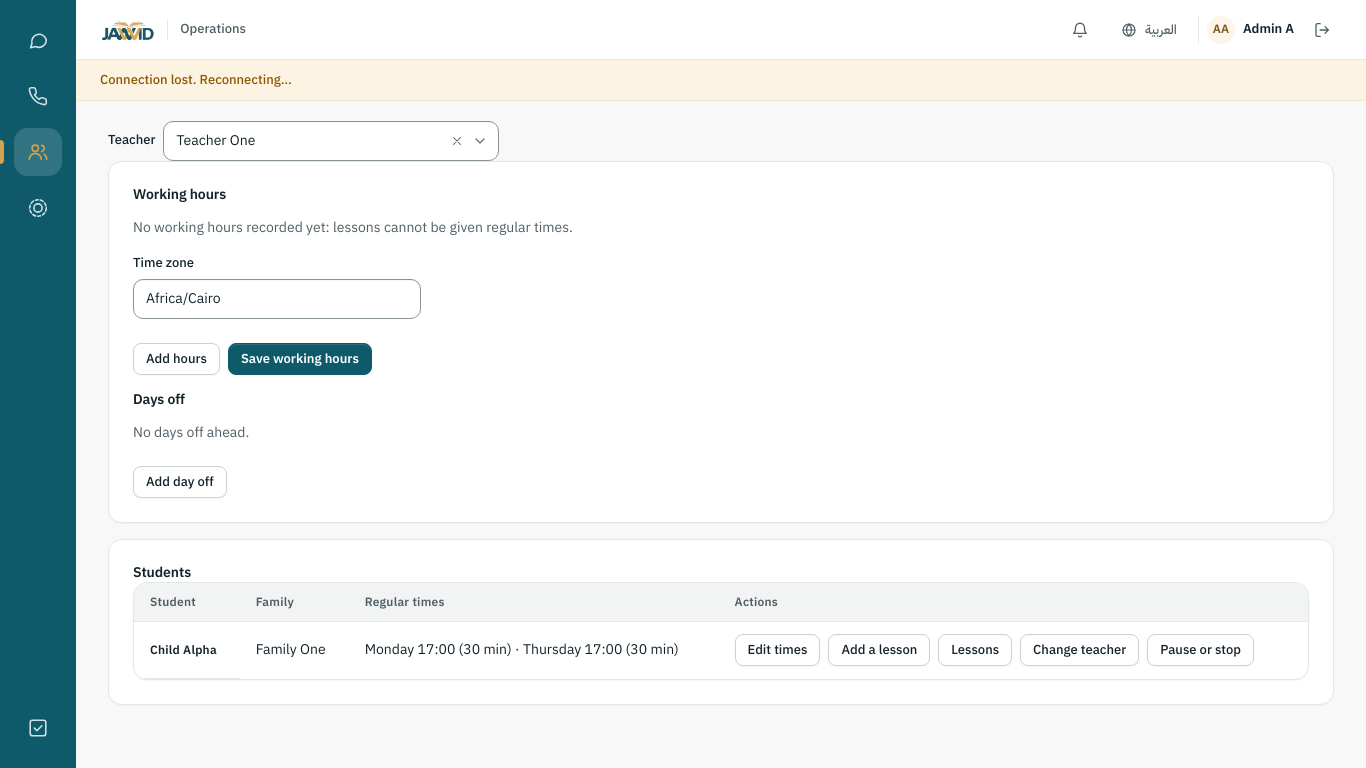
Scenario: Schedules › Lessons (move one lesson) › a refusal (the lesson started) is said instead of chips
(page scrolled)
Click the button "Lessons" at [975, 650], box [938,634,1012,666]
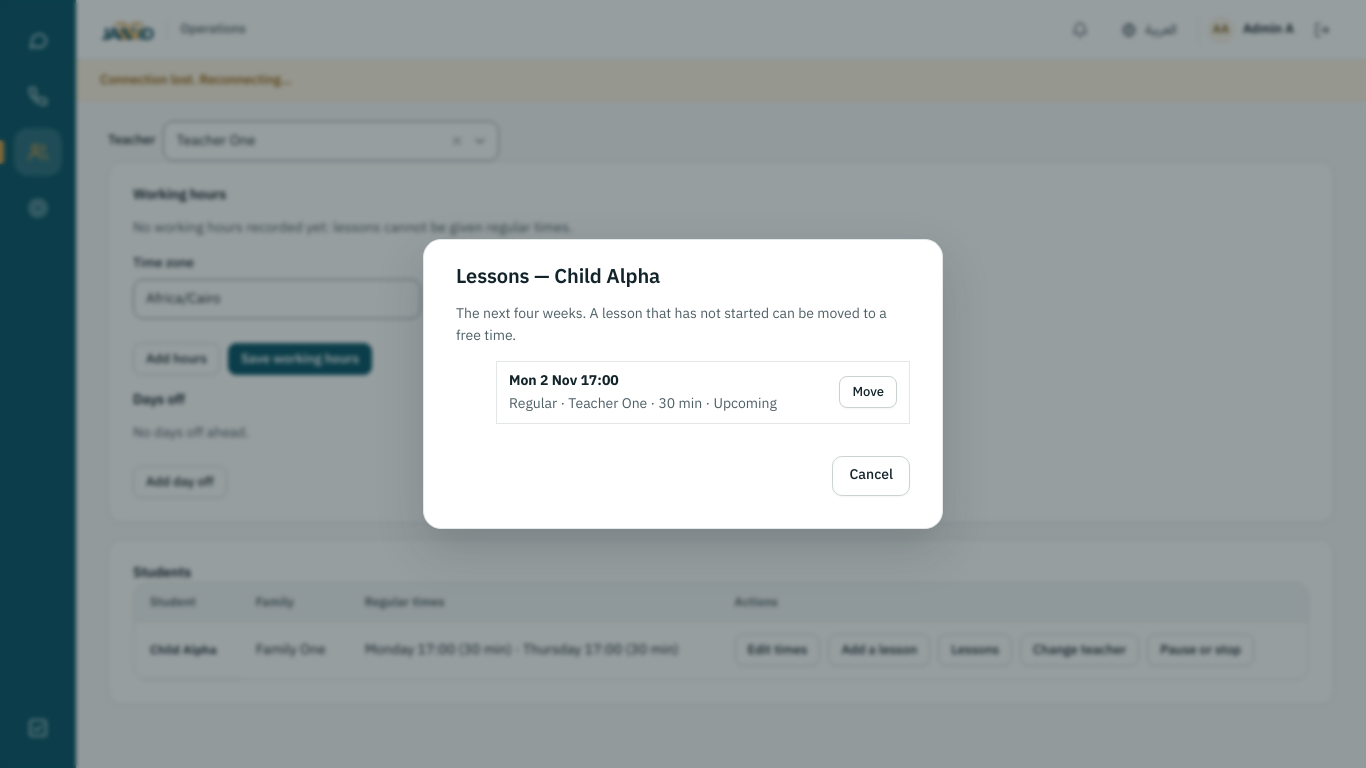
Click the button with aria-label "Move Mon 2 Nov 17:00" at [868, 392], box [839,376,897,408]
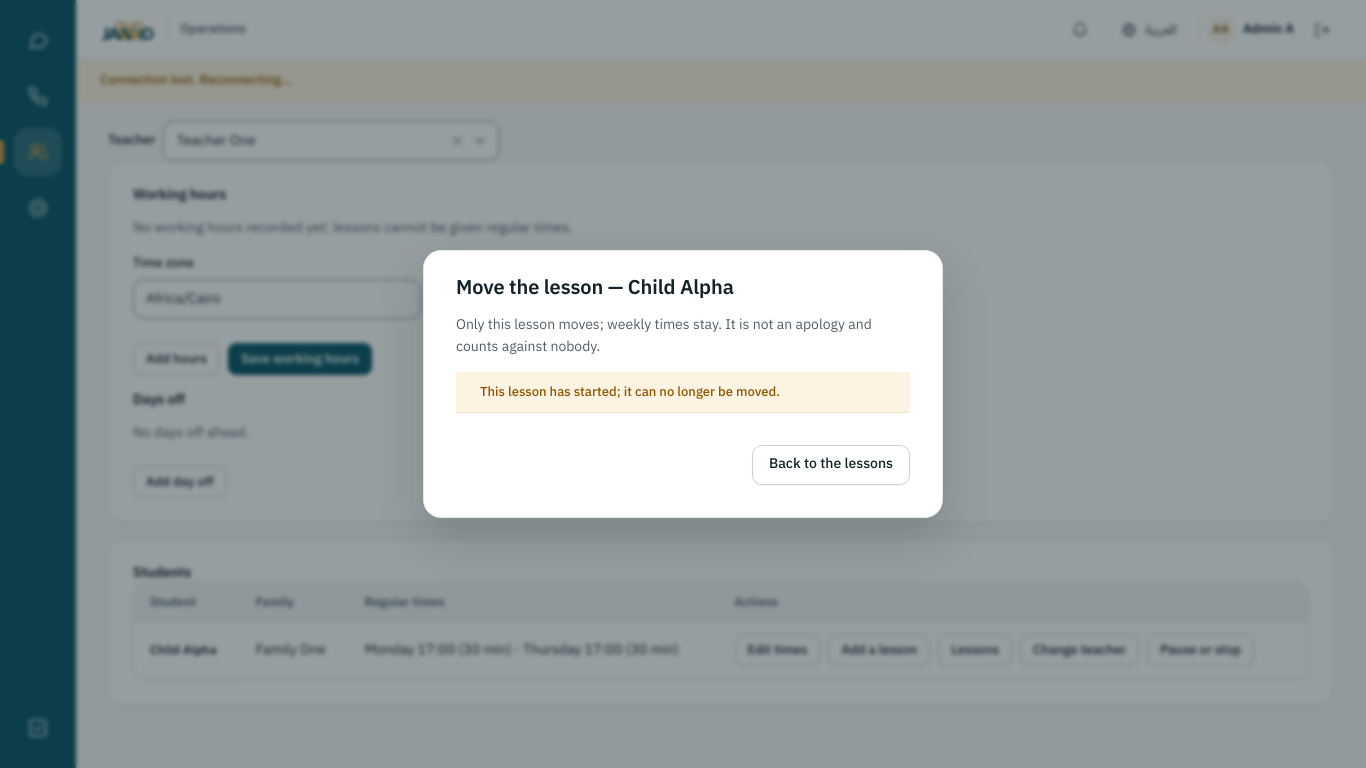
Expected: the text "This lesson has started; it can no longer be moved." is shown, [456,372,910,413]
